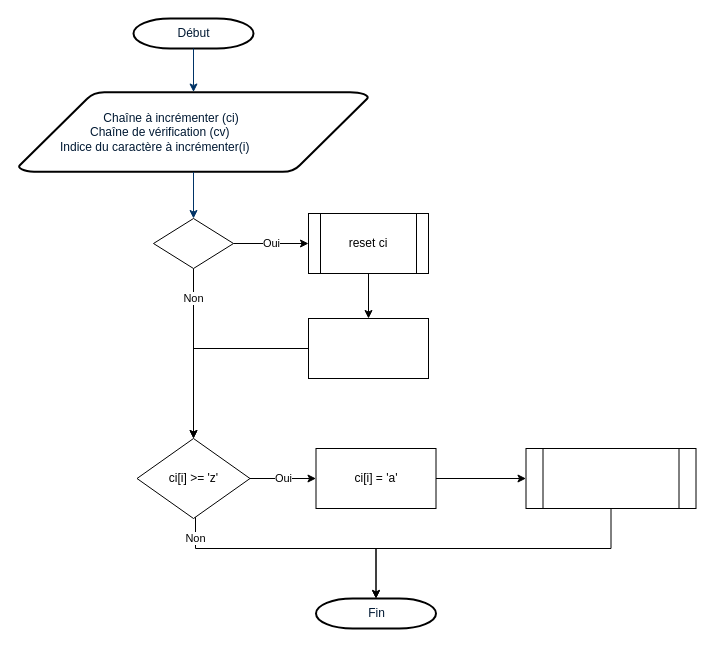
Image size: 713x646. Some labels were removed from this diagram. The box of each missing label's shape, as (x1, y1, x2, y2) in pixels:
ci = ci + 'a' cv = cv + 'z': (308, 318, 428, 378)
ci = cv: (152, 218, 234, 268)
incrémente ci, cv, i-1: (525, 448, 696, 508)
